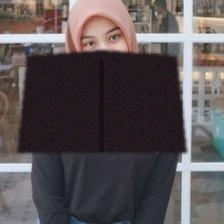Cadar_Niqab: (16, 0, 187, 152)
